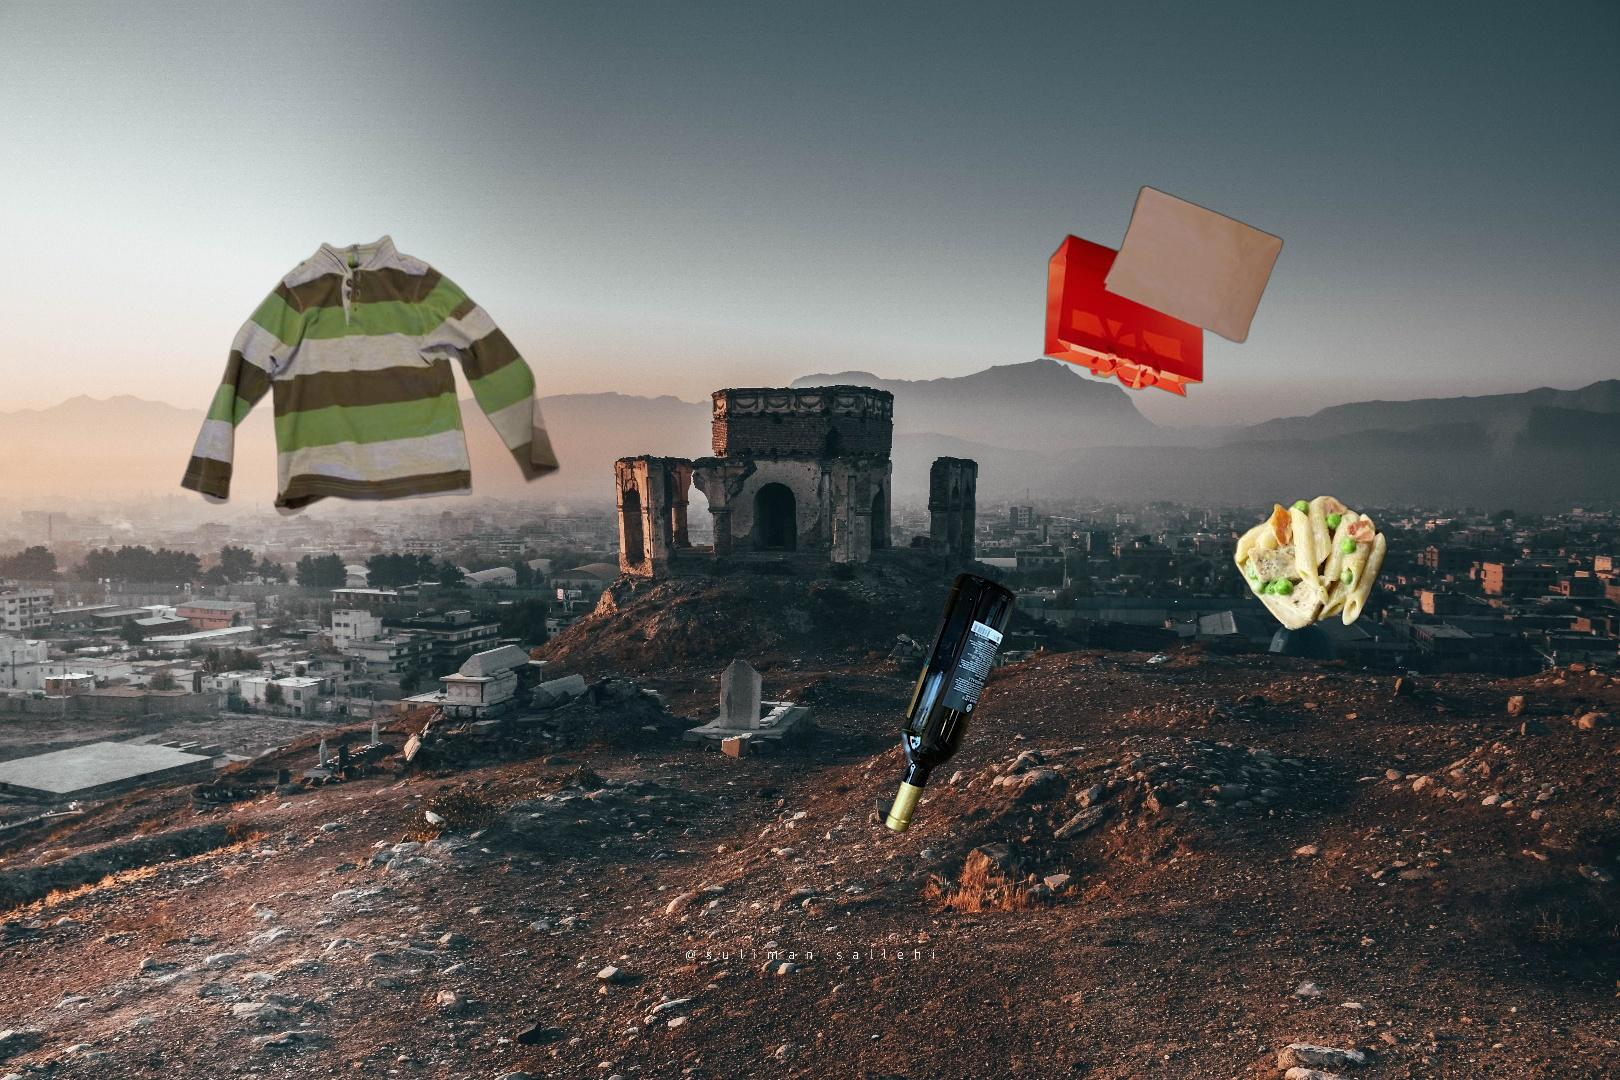biological: (1220, 409, 1390, 635)
clothes: (177, 233, 564, 520)
glass: (880, 567, 1020, 839)
paper-bag: (1041, 183, 1287, 401)
